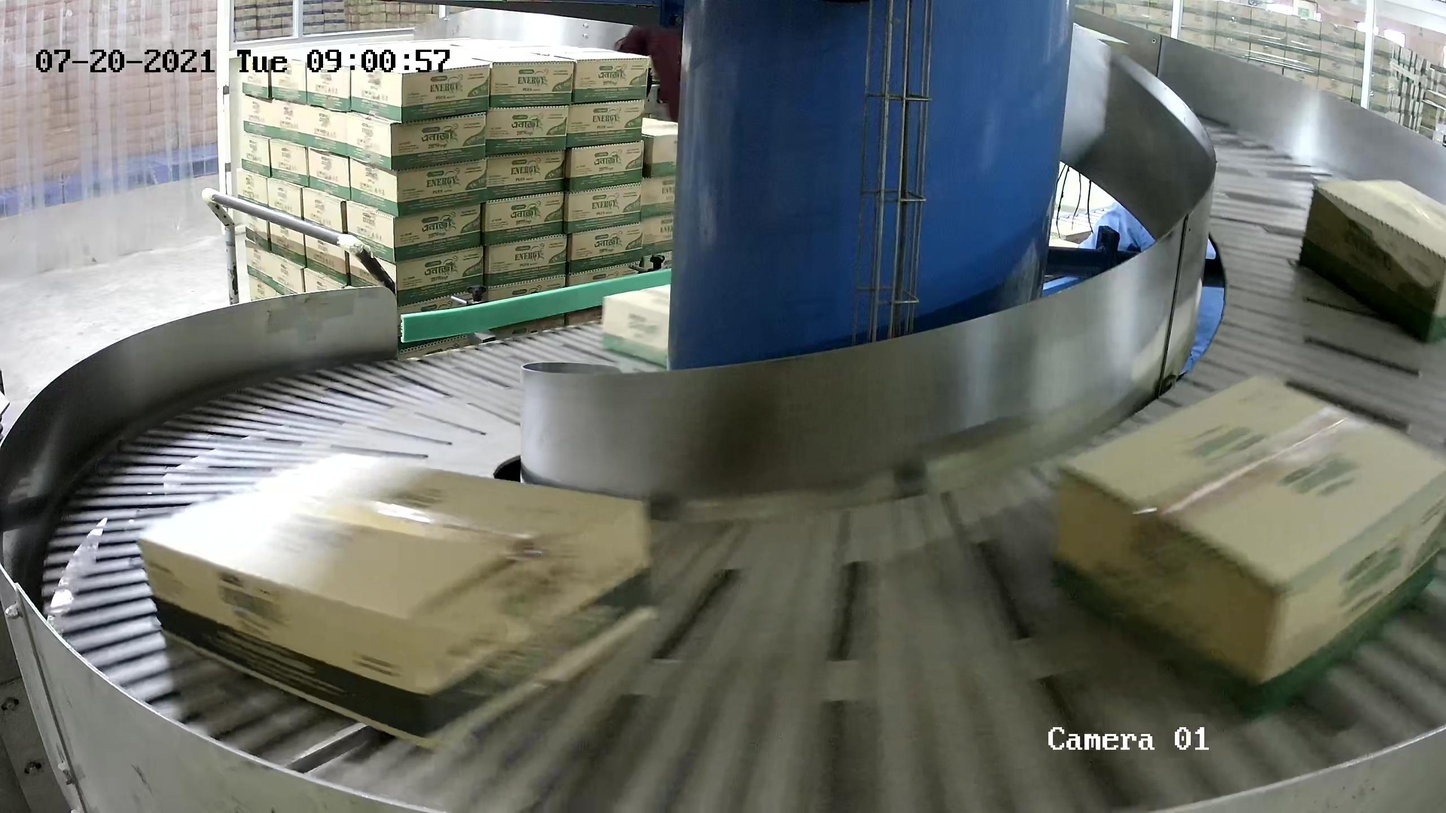Box: (135, 449, 657, 749), (1049, 370, 1446, 722), (1296, 179, 1446, 345), (601, 283, 671, 368)
